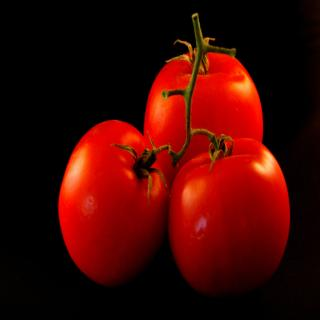tomato: (166, 132, 291, 298), (143, 14, 261, 180), (59, 118, 168, 284)
